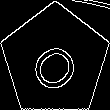O_NE: (24, 28, 86, 93)
